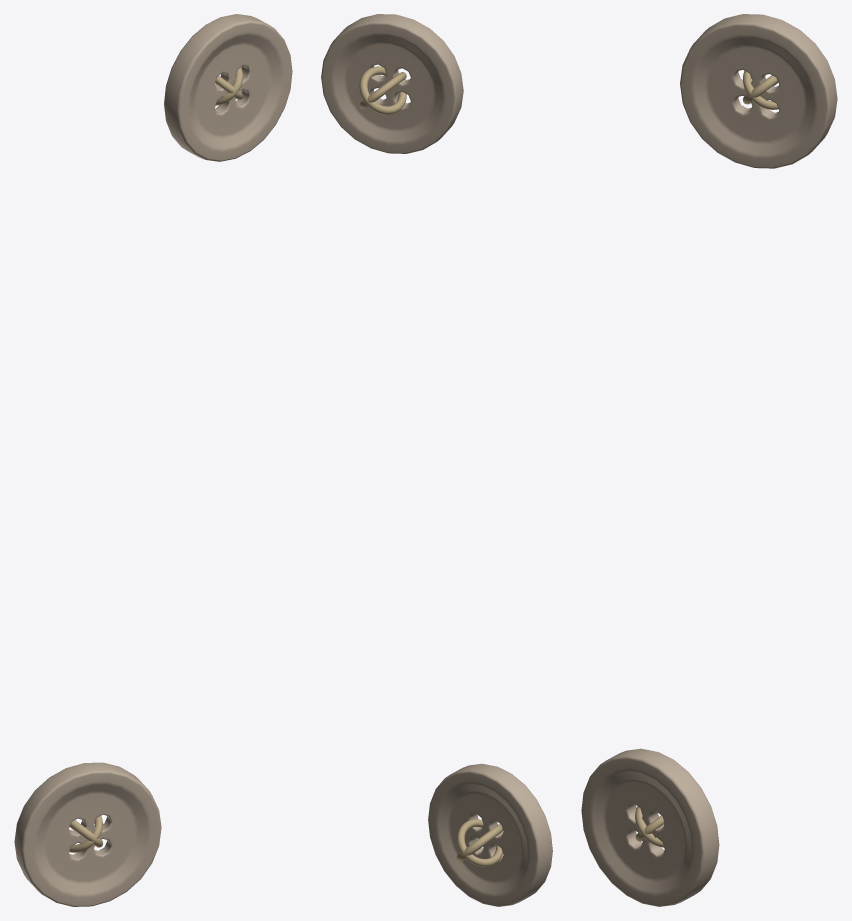
File: buttons.glb
3 views of the same model, side by side, from view 1: azimuth 30°, elevation 25°; view 2: azimuth 150°, elevation 25°; view 3: azimuth 330°, elevation 25° (orthographic). The views are drawn at different scales.
Parts seen in each view (by area): view 1: button.001, button; view 2: button, button.001, BézierCircle, BézierCircle.002, BézierCircle.003; view 3: button, button.001.
Boxes of the visible parts, left/top/right/bottom form: button.001: left=14, top=762, right=161, bottom=906; button: left=164, top=14, right=292, bottom=161; button: left=321, top=14, right=463, bottom=153; button.001: left=428, top=763, right=552, bottom=906; BézierCircle: left=359, top=66, right=406, bottom=114; BézierCircle.002: left=457, top=819, right=502, bottom=866; BézierCircle.003: left=456, top=824, right=503, bottom=861; button: left=680, top=14, right=837, bottom=168; button.001: left=581, top=748, right=719, bottom=906.
Size of the model in its own units: 0.0179 by 0.0591 by 0.00721.
